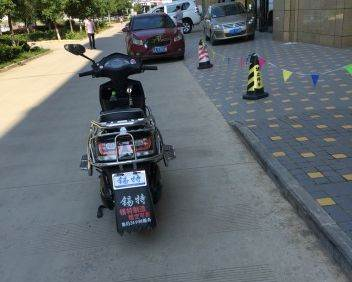电动车: (52, 30, 184, 241)
